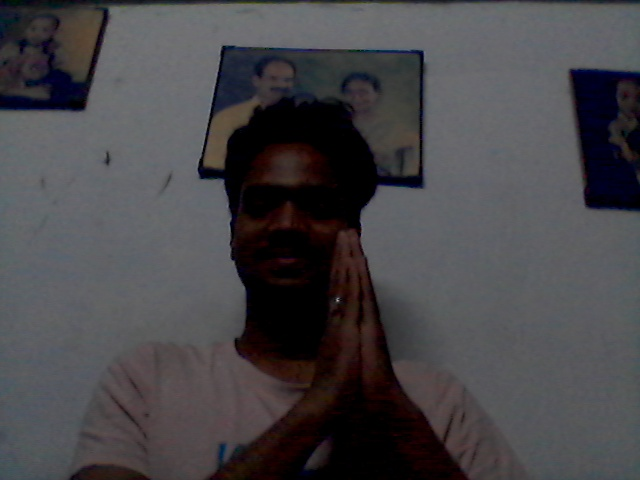Namasthe: (297, 225, 427, 451)
